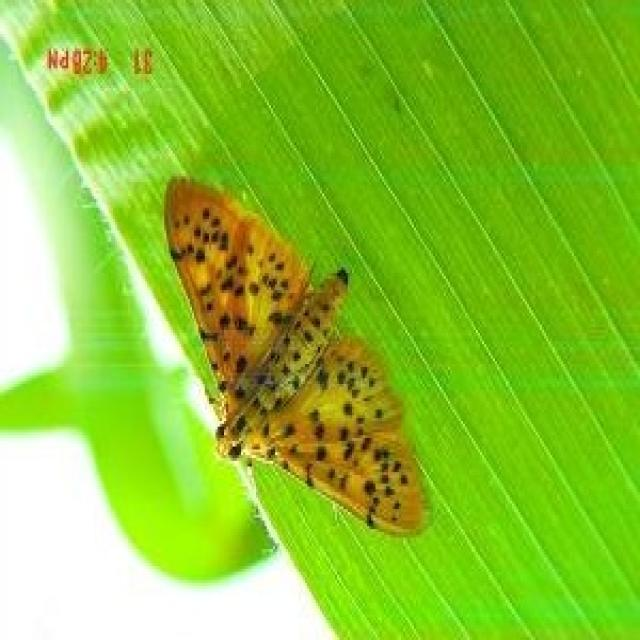peach borer: (159, 176, 436, 554)
